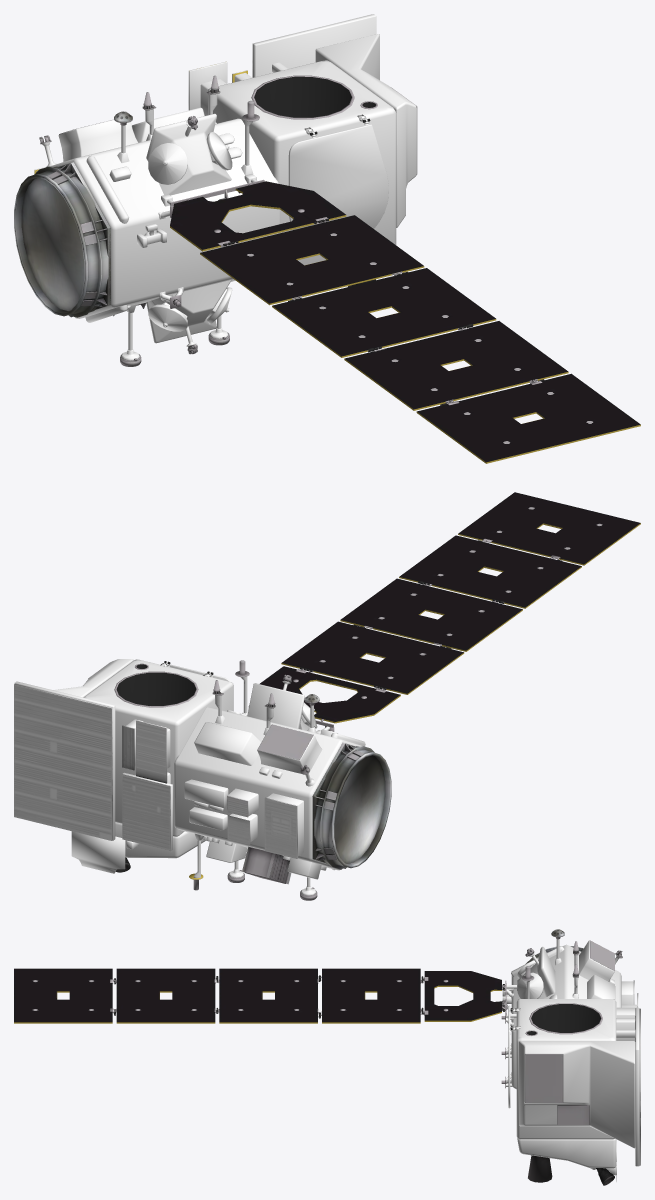
File: icesat-2.glb
The picture shows the model from 3 angles, top to bottom: view 1: azimuth 30°, elevation 25°; view 2: azimuth 150°, elevation 25°; view 3: azimuth 270°, elevation 25°; orthographic projection. The views are drawn at different scales.
Visible parts, largest first — view 1: Cylinder.001, solar_panels, instruments, Atlas scope, hinges; view 2: instruments, Cylinder.001, solar_panels, Atlas scope; view 3: solar_panels, Cylinder.001, instruments, Atlas scope, hinges.
Part boxes in pixels (<box>): Cylinder.001: <box>36,14,416,360</box>; solar_panels: <box>200,215,640,463</box>; instruments: <box>14,14,417,366</box>; Atlas scope: <box>251,75,377,119</box>; hinges: <box>186,114,544,405</box>; instruments: <box>14,660,400,900</box>; Cylinder.001: <box>14,659,365,895</box>; solar_panels: <box>281,492,640,694</box>; Atlas scope: <box>114,663,198,707</box>; solar_panels: <box>14,968,420,1023</box>; Cylinder.001: <box>502,939,639,1181</box>; instruments: <box>424,929,640,1185</box>; Atlas scope: <box>525,1003,602,1035</box>; hinges: <box>110,975,520,1034</box>.
Bounding box in the file's own units: 6.83 × 4.35 × 13.8.
Materials: 8 (1 with a texture image).
